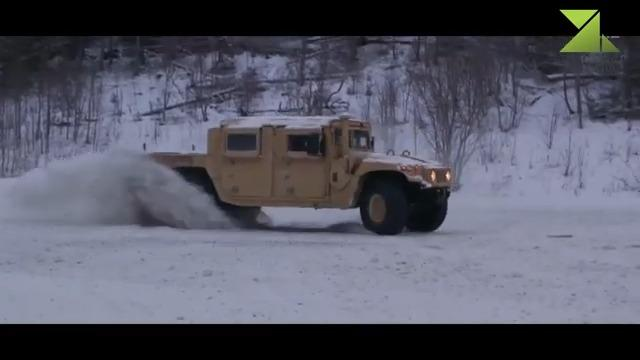MIL_HMMWV: (138, 110, 452, 238)
